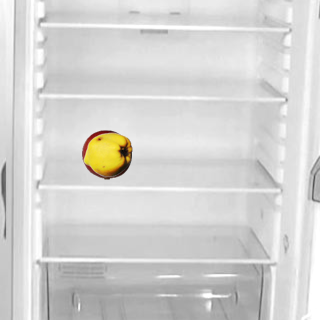Apple Braeburn: (81, 129, 131, 179)
Quince: (82, 129, 132, 179)
